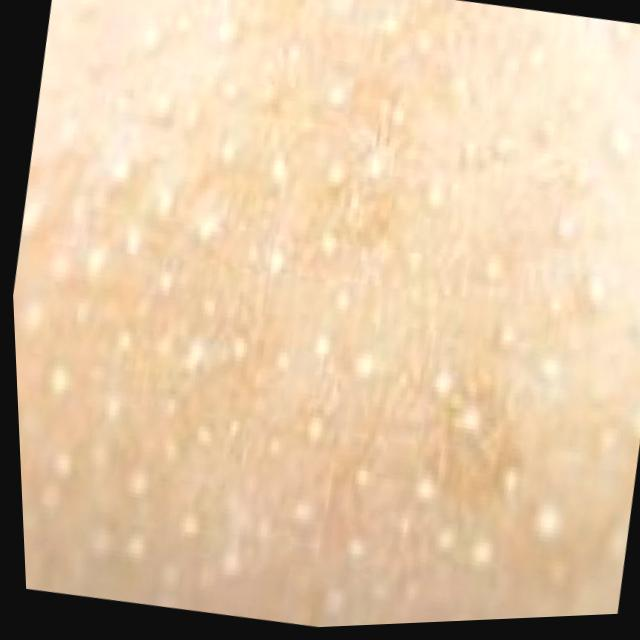whitehead: (10, 0, 640, 630)
